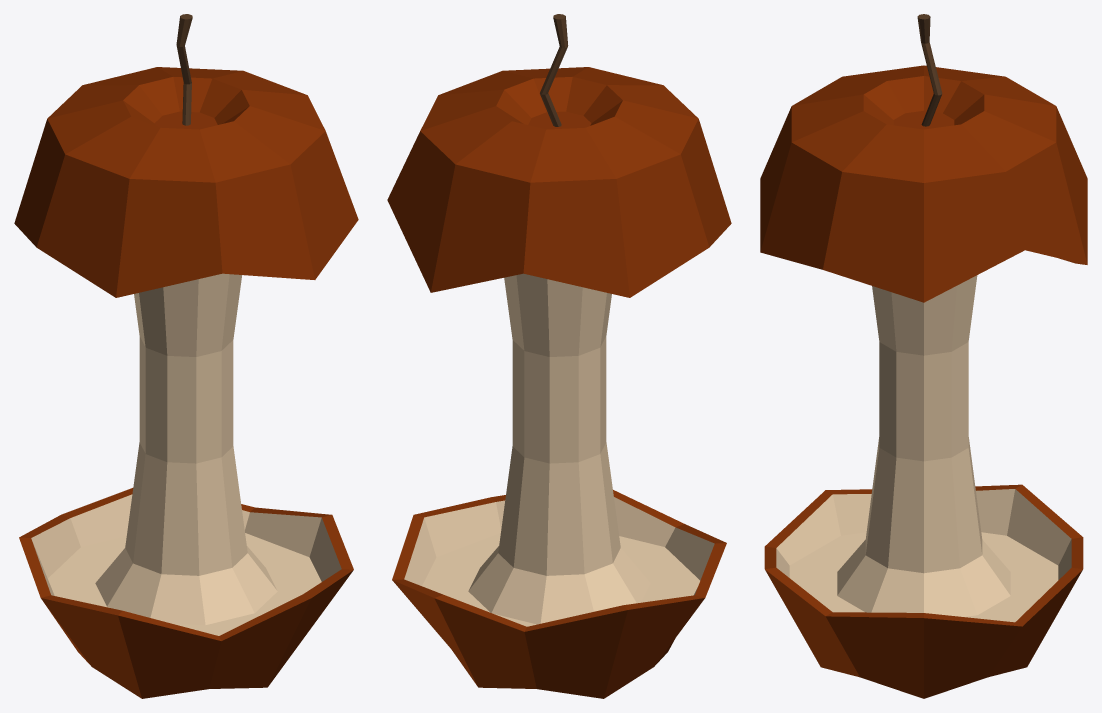
File: 3DMODELS_Props_Food_AppleCore01.fbx
3 views of the same model, side by side, from view 1: azimuth 30°, elevation 25°; view 2: azimuth 150°, elevation 25°; view 3: azimuth 270°, elevation 25° (orthographic).
Parts seen in each view (by area): view 1: pCylinder3; view 2: pCylinder3; view 3: pCylinder3.
Boxes of the visible parts, x1,y1,x2,y2 form: pCylinder3: (14, 14, 358, 698); pCylinder3: (387, 14, 731, 698); pCylinder3: (760, 14, 1087, 698).
Bounding box in the file's own units: 2 × 4.11 × 1.9.
